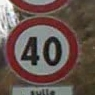limite 40: (1, 15, 79, 83)
